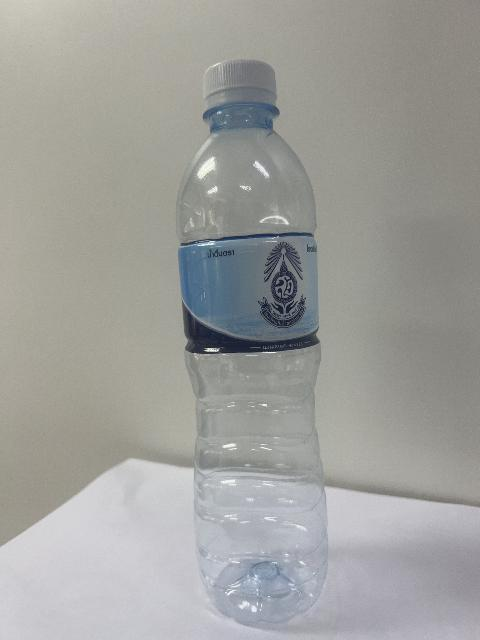bottle: (177, 60, 327, 623)
